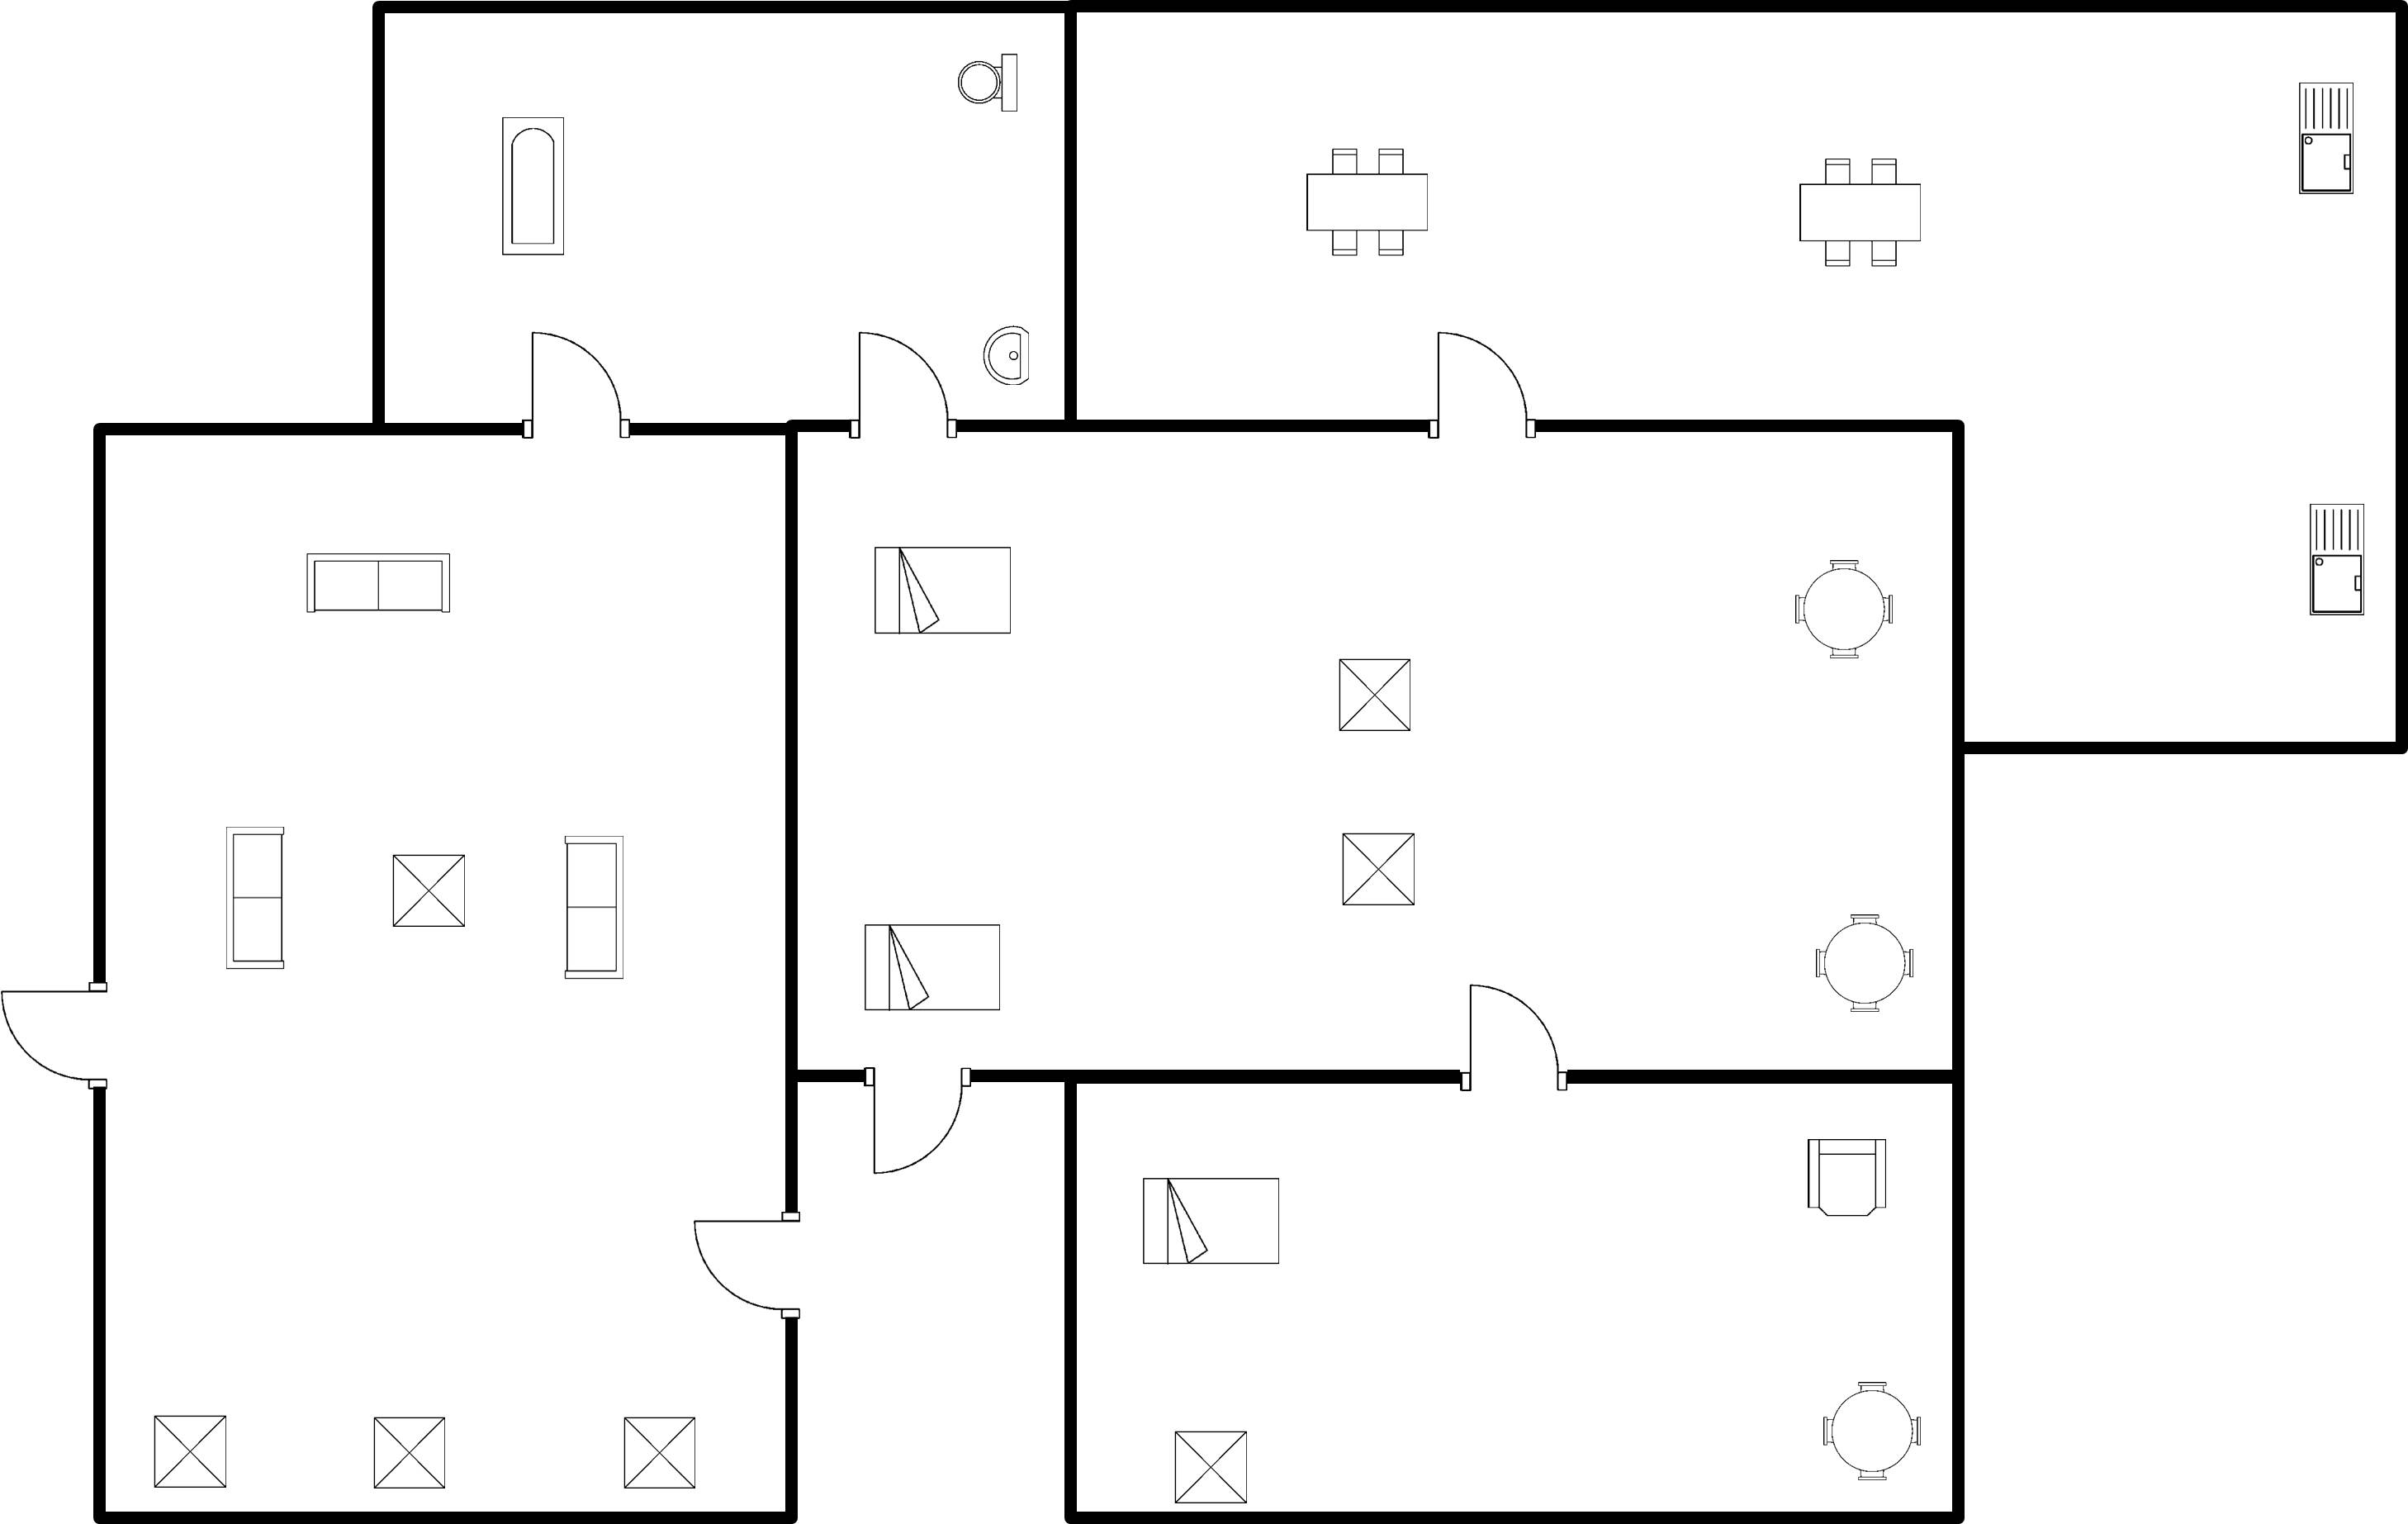armchair: (1791, 1128, 1915, 1233)
bed: (849, 909, 1012, 1027), (860, 531, 1027, 644), (1327, 650, 1425, 744), (1164, 1419, 1259, 1516), (1332, 822, 1429, 913)
coffee_table: (140, 1402, 236, 1500), (608, 1403, 708, 1498), (360, 1405, 458, 1498), (384, 843, 477, 938)
dining_table: (1284, 137, 1446, 274), (1788, 145, 1936, 285)
large_sink: (945, 42, 1035, 125)
large_sofa: (293, 534, 460, 628), (219, 819, 301, 984), (552, 825, 632, 992)
round_table: (1778, 547, 1910, 671), (1799, 898, 1926, 1025), (1807, 1369, 1937, 1491)
sink: (2288, 66, 2364, 209), (2302, 495, 2375, 628)
small_sink: (967, 314, 1043, 398)
tub: (489, 104, 577, 273)
